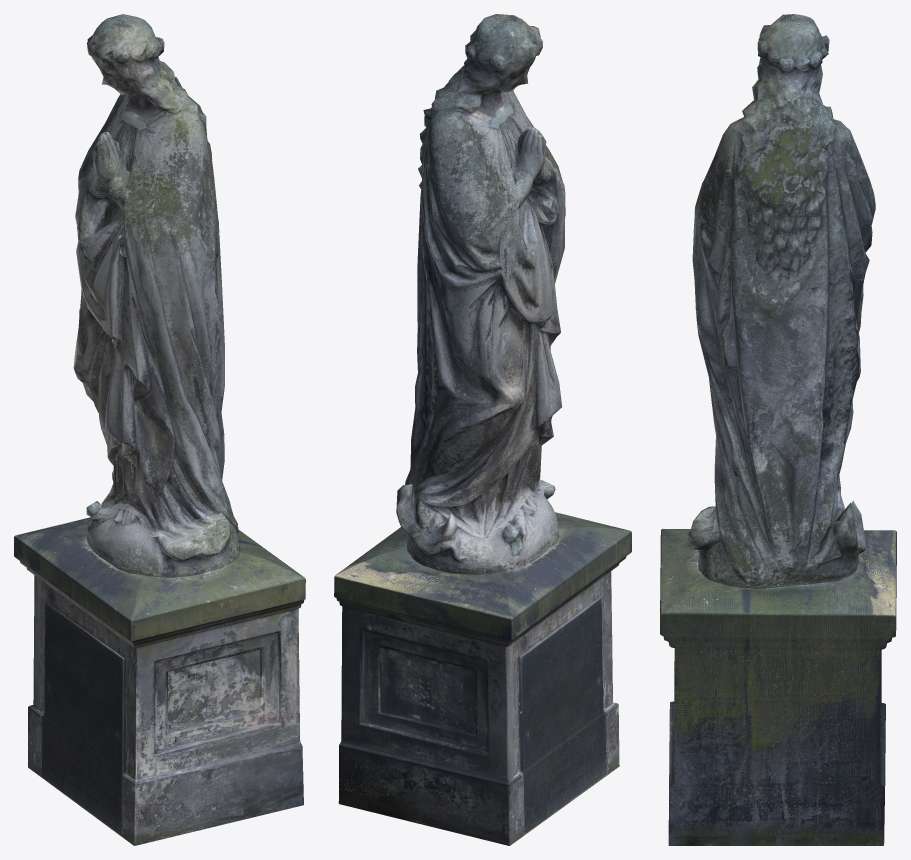
File: sm_GraveSculpture_06_01.fbx
The picture shows the model from 3 angles, left to right: view 1: azimuth 30°, elevation 25°; view 2: azimuth 150°, elevation 25°; view 3: azimuth 270°, elevation 25°; orthographic projection.
Visible parts, largest first — view 1: sm_GraveSculpture_06_01_LOD0; view 2: sm_GraveSculpture_06_01_LOD0; view 3: sm_GraveSculpture_06_01_LOD0.
Part boxes in pixels (<box>): sm_GraveSculpture_06_01_LOD0: <box>14,14,305,845</box>; sm_GraveSculpture_06_01_LOD0: <box>334,14,631,845</box>; sm_GraveSculpture_06_01_LOD0: <box>660,14,896,845</box>.
Bounding box in the file's own units: 76.83 × 88.69 × 317.
